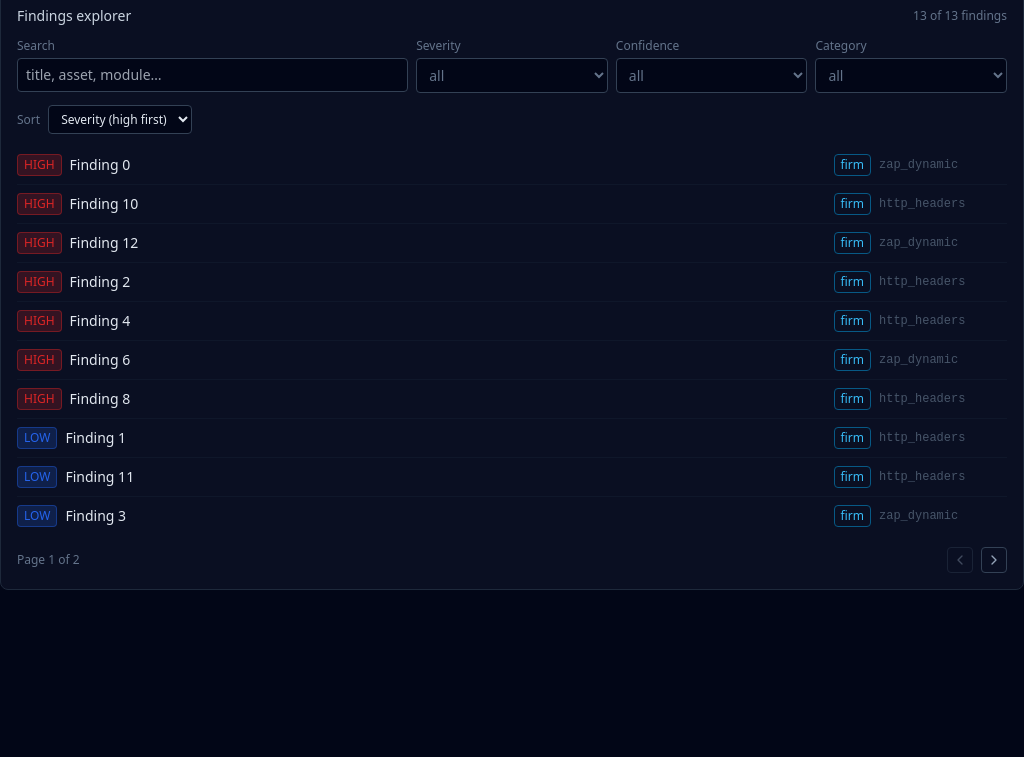
Test: FindingsExplorer › opens a finding detail panel with evidence, module, asset, status, remediation
Click the text "Finding 0" at (100, 164), box [70,155,130,174]
(page scrolled)
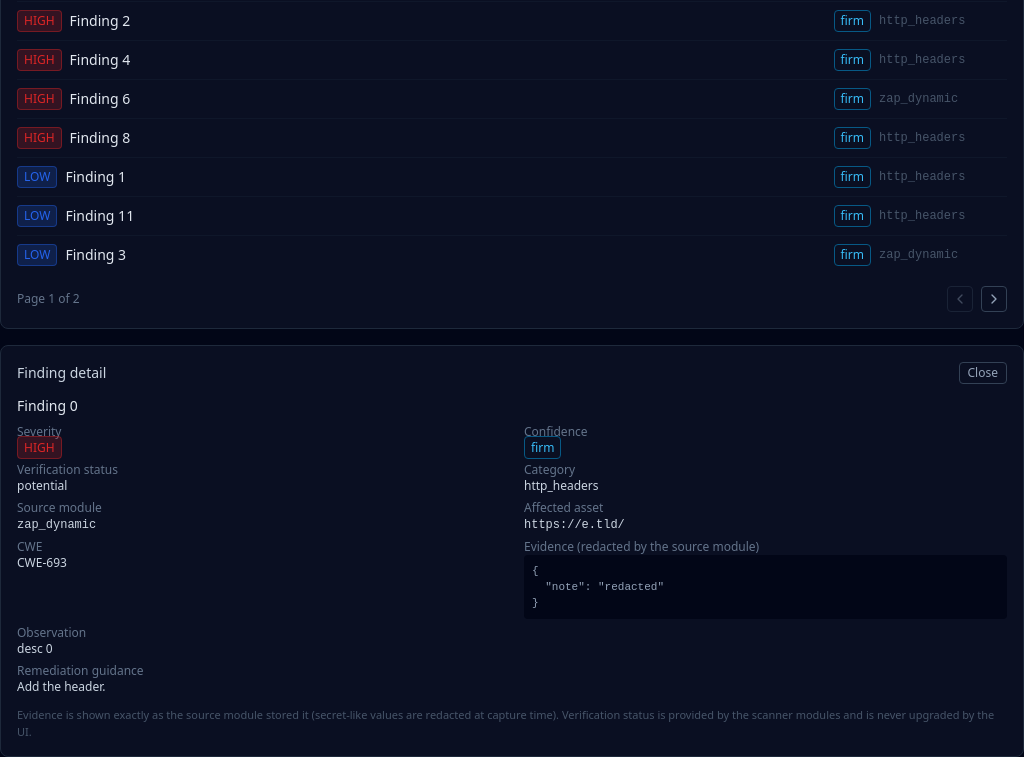
Expected: the element with test id "finding-detail" shows "Finding 0", [17,396,78,415]
Expected: the element with test id "finding-detail" shows "potential", [17,477,67,494]
Expected: the element with test id "finding-detail" shows "https://e.tld/", [524,518,625,532]
